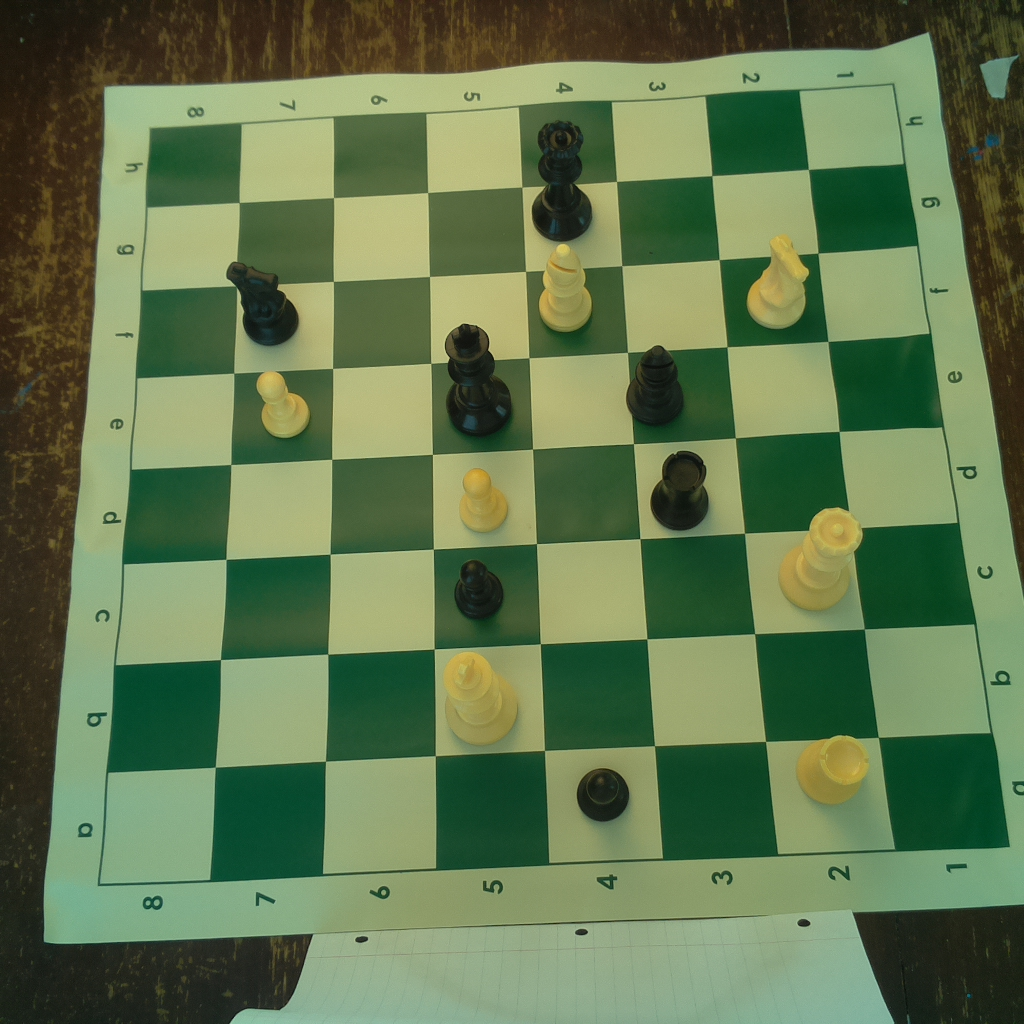black_bishop: (623, 339, 690, 430)
black_king: (437, 322, 515, 436)
black_knight: (223, 256, 305, 348)
black_pawn: (571, 757, 634, 826), (451, 556, 507, 619)
black_queen: (529, 114, 597, 245)
black_rook: (647, 448, 716, 534)
file_a: (97, 735, 1011, 886)
file_b: (107, 623, 992, 771)
file_c: (118, 523, 975, 667)
file_d: (123, 427, 958, 566)
file_e: (129, 332, 944, 471)
file_f: (137, 243, 932, 377)
file_g: (138, 165, 916, 291)
file_h: (144, 84, 908, 209)
outline: (98, 87, 1011, 884)
rank_1: (798, 84, 1011, 852)
rank_2: (706, 88, 894, 856)
rank_3: (612, 97, 780, 861)
rank_4: (520, 101, 666, 864)
rank_5: (425, 106, 553, 870)
rank_6: (323, 114, 438, 871)
rank_7: (211, 117, 336, 884)
rank_8: (98, 122, 242, 887)
white_bishop: (536, 243, 598, 339)
white_king: (438, 649, 523, 747)
white_knight: (745, 231, 811, 331)
white_pawn: (253, 365, 314, 444), (451, 460, 512, 538)
white_queen: (772, 501, 862, 612)
white_rook: (794, 727, 873, 809)
